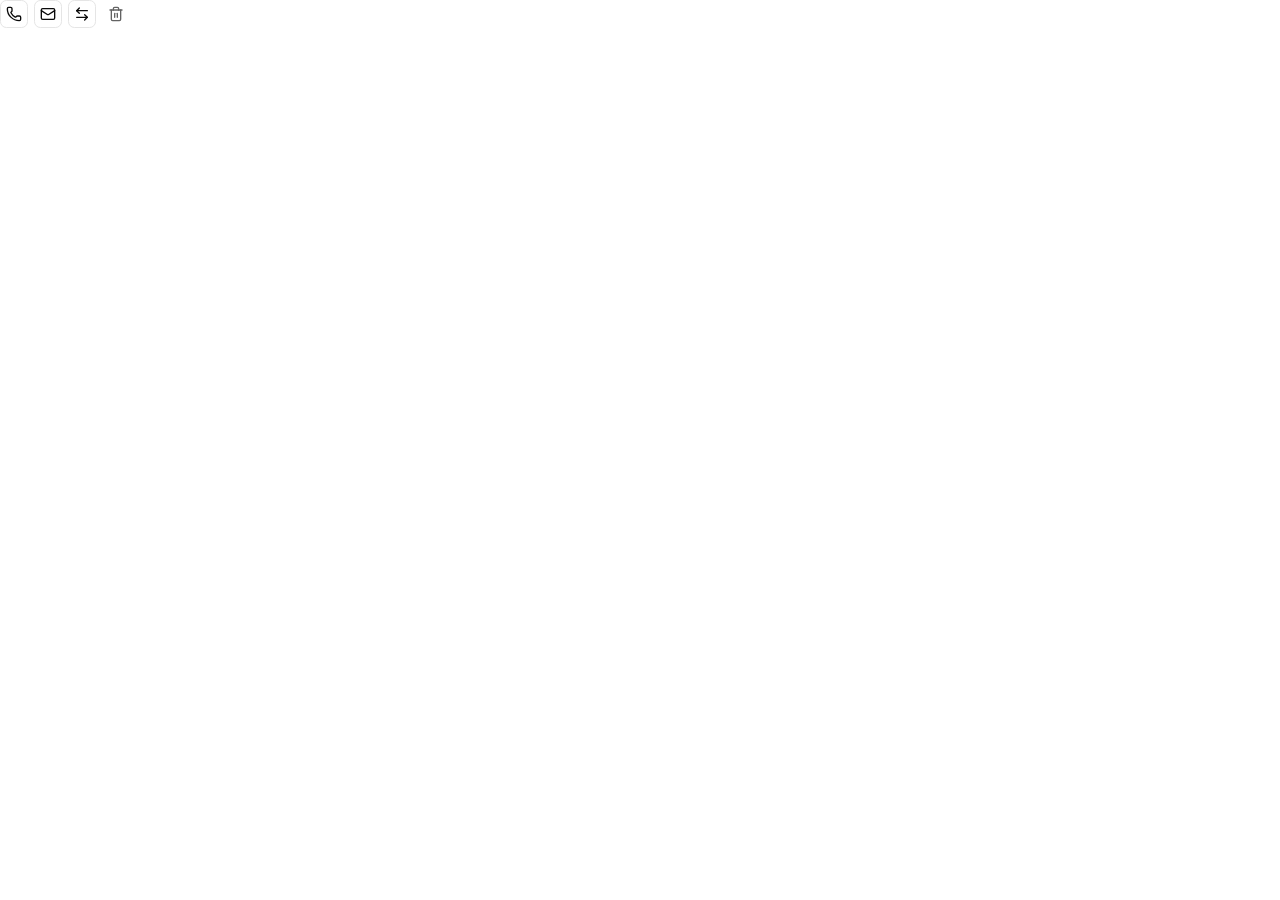
Contacts list actions › Reassign opens the existing contact dialog
Click the button named "Reassign Contact": (82, 14) [68,0,96,28]
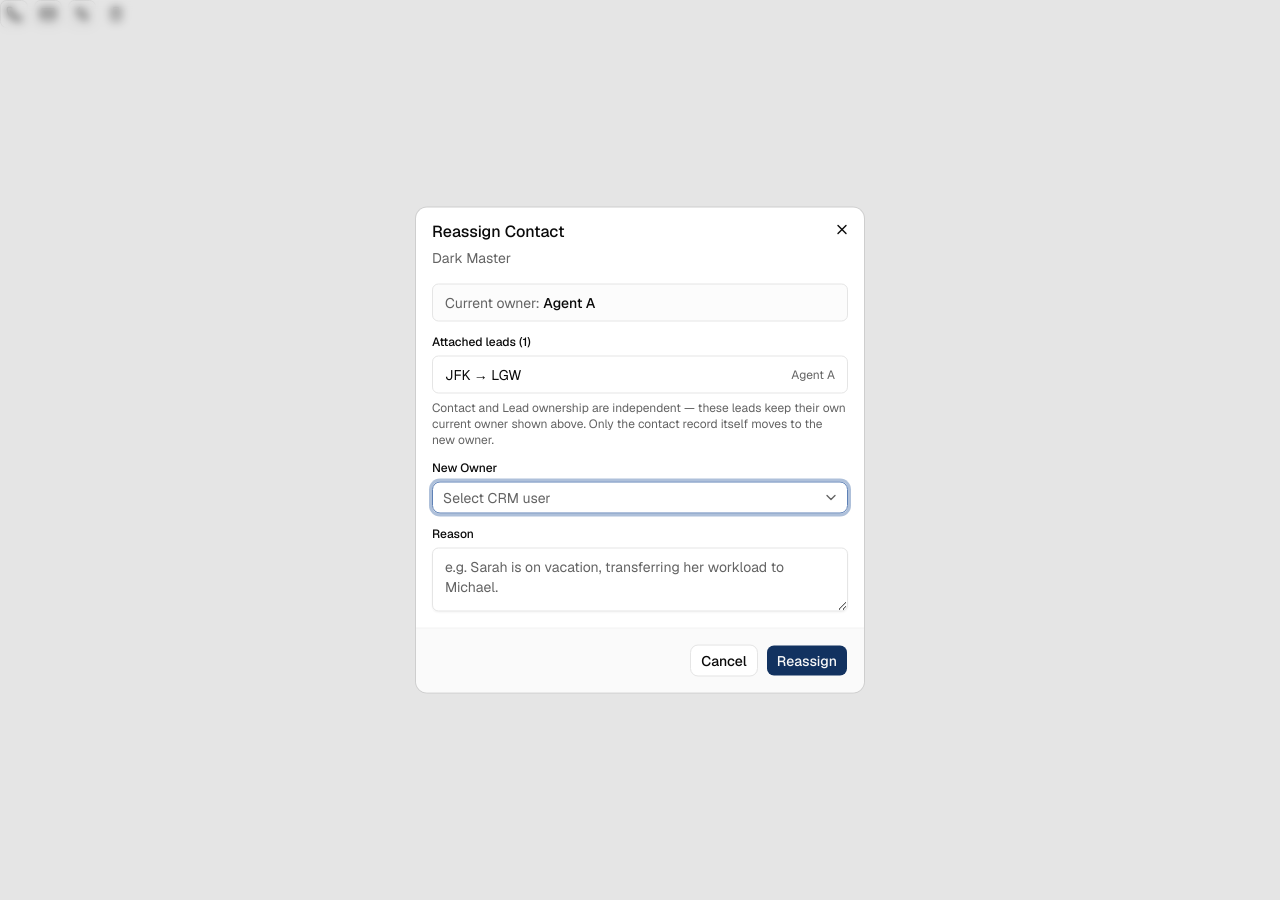
Now the dialog is shown, box [416,208,864,692]
